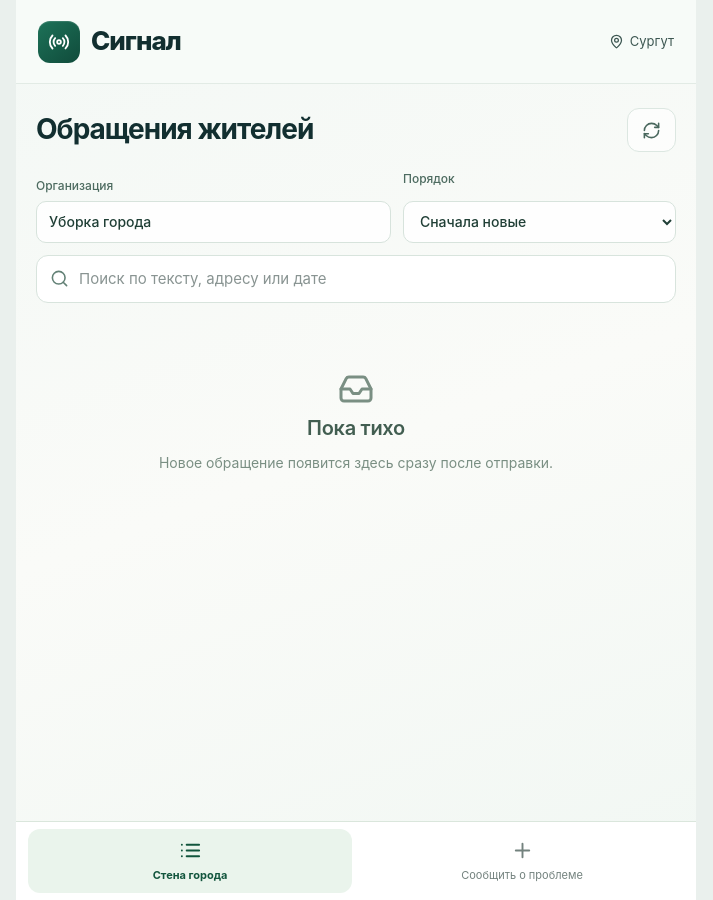
blocks submission when the organization has no active territories
What coordinates should you click on to do the following:
click the button "Сообщить о проблеме"
I would click on:
 (522, 861)
Its box is [360,829,684,893].
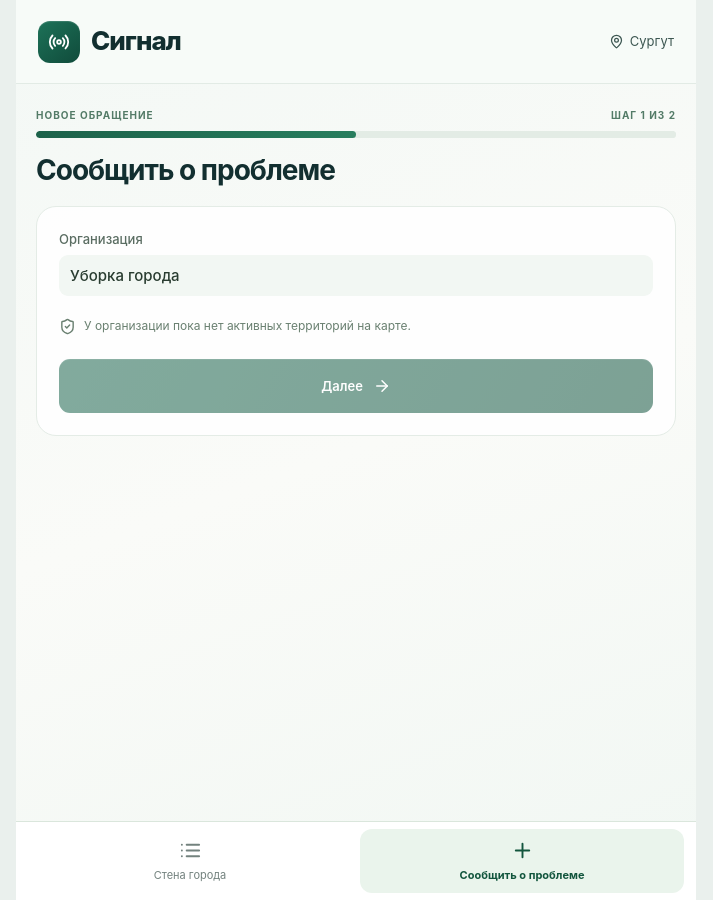
Now the text "пока нет активных территорий" is shown, box [84,318,411,334]
Now the button "Далее" is disabled, box [59,359,653,413]
